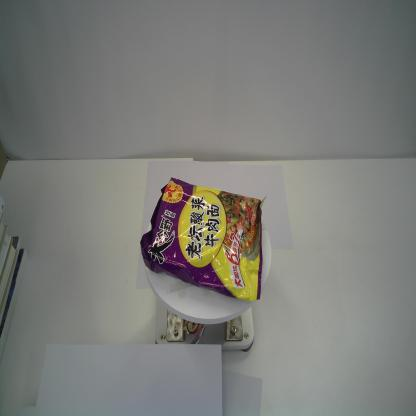Instant Noodles: (140, 176, 266, 302)
